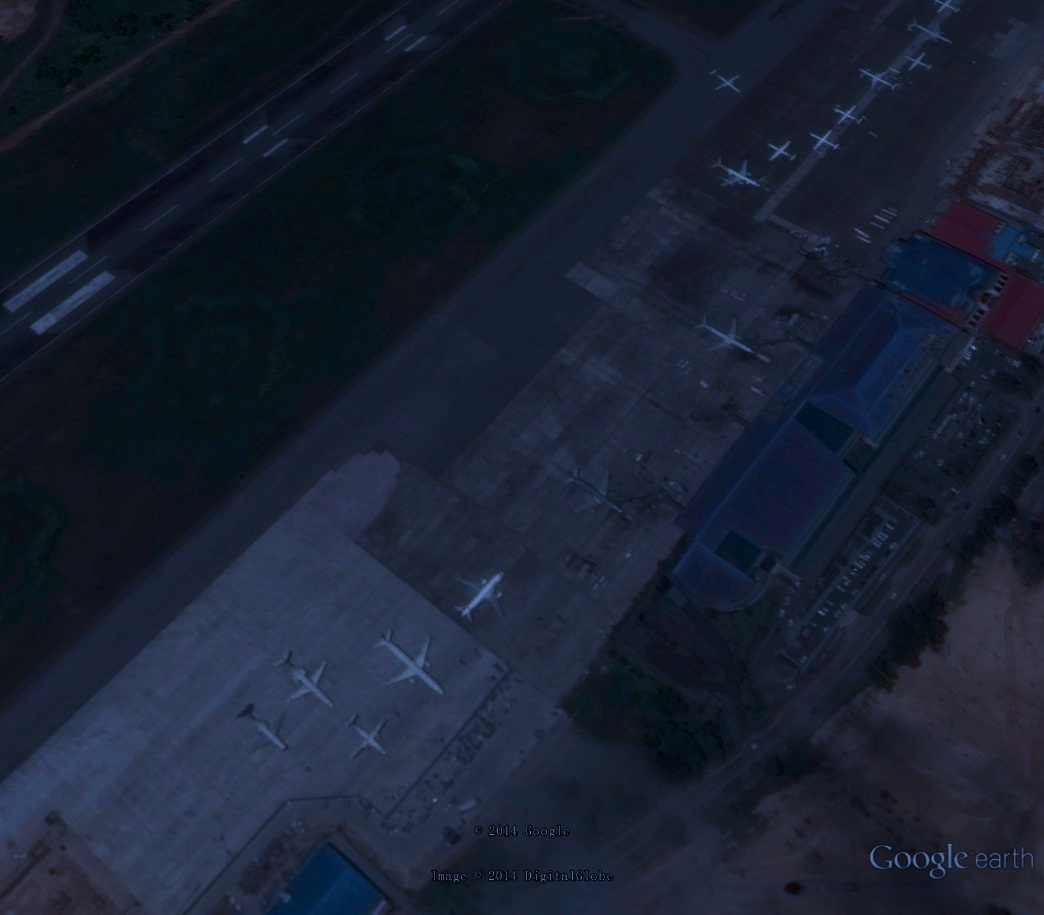aircraft: (370, 623, 449, 700), (270, 646, 338, 714), (232, 702, 299, 762), (453, 567, 510, 630), (563, 466, 627, 520), (690, 313, 760, 356), (342, 713, 393, 763), (709, 155, 763, 194), (905, 14, 957, 48), (857, 63, 903, 93), (708, 65, 747, 98), (808, 127, 847, 155), (766, 139, 802, 166), (833, 104, 868, 130), (904, 48, 934, 74), (930, 1, 962, 19)
